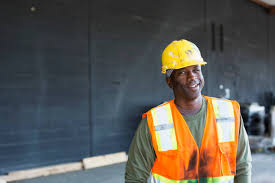Person_wearing_helmet: (155, 36, 206, 75)
